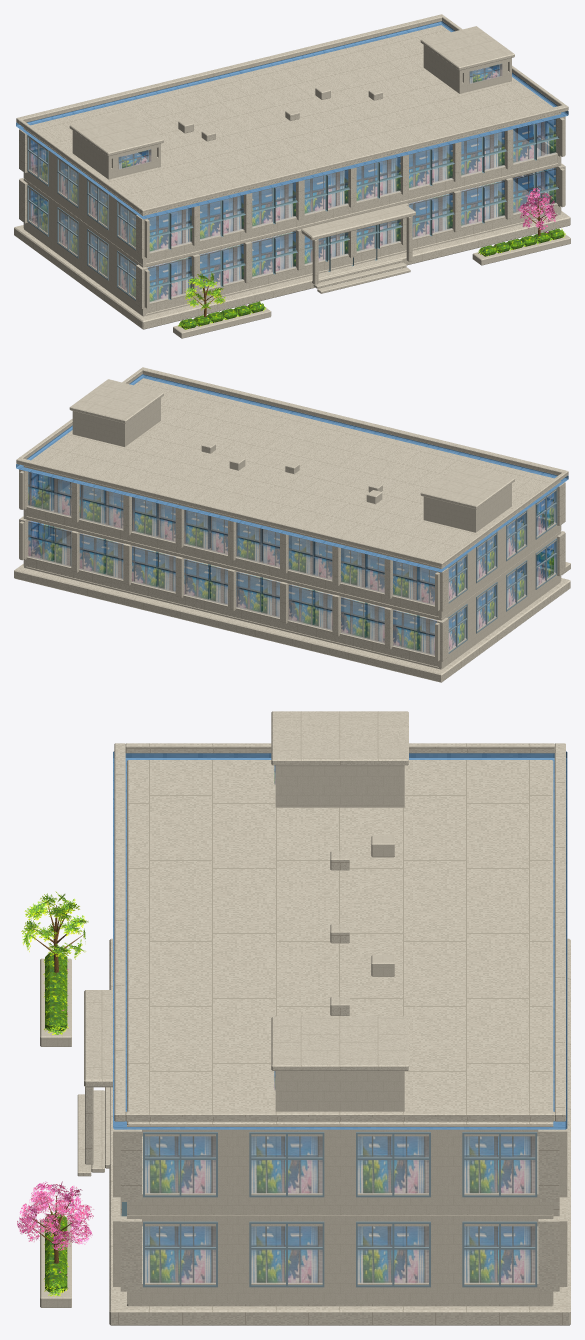
File: B06_low_building_v2.glb
3 renders of one model, top to bottom at view 1: azimuth 30°, elevation 25°; view 2: azimuth 150°, elevation 25°; view 3: azimuth 270°, elevation 25°, orthographic. The views are drawn at different scales.
Visible parts, largest first — view 1: GAME_V2_Pixel_limestone, GAME_V2_Glass_reflection, GAME_roof, GAME_蓝灰窗框, GAME_V3_Stair_metal, GAME_V2_Planter_stone, GAME_V2_Dense_hedge, GAME_V2_Leaf_cutout, GAME_V2_Blossom_cutout; view 2: GAME_V2_Pixel_limestone, GAME_V2_Glass_reflection, GAME_roof, GAME_蓝灰窗框, GAME_V3_Stair_metal, GAME_V2_Planter_stone; view 3: GAME_V2_Pixel_limestone, GAME_V2_Glass_reflection, GAME_V3_Stair_metal, GAME_roof, GAME_V2_Planter_stone, GAME_V2_Blossom_cutout, GAME_V2_Dense_hedge, GAME_V2_Leaf_cutout, GAME_V2_Bark.
Boxes of the visible parts, x1,y1,x2,y2 form: GAME_V2_Pixel_limestone: (14, 14, 570, 329); GAME_V2_Glass_reflection: (29, 64, 556, 302); GAME_roof: (16, 21, 568, 219); GAME_蓝灰窗框: (31, 124, 559, 299); GAME_V3_Stair_metal: (27, 121, 553, 300); GAME_V2_Planter_stone: (173, 86, 570, 338); GAME_V2_Dense_hedge: (179, 229, 564, 329); GAME_V2_Leaf_cutout: (178, 228, 565, 329); GAME_V2_Blossom_cutout: (194, 188, 557, 318); GAME_V2_Pixel_limestone: (14, 367, 570, 682); GAME_V2_Glass_reflection: (28, 472, 555, 655); GAME_roof: (16, 374, 568, 572); GAME_蓝灰窗框: (29, 477, 553, 649); GAME_V3_Stair_metal: (31, 474, 557, 653); GAME_V2_Planter_stone: (229, 456, 570, 574); GAME_V2_Pixel_limestone: (77, 711, 570, 1325); GAME_V2_Glass_reflection: (145, 765, 535, 1283); GAME_V3_Stair_metal: (143, 1132, 537, 1287); GAME_roof: (113, 751, 567, 1129); GAME_V2_Planter_stone: (40, 835, 394, 1307); GAME_V2_Blossom_cutout: (17, 969, 93, 1275); GAME_V2_Dense_hedge: (45, 952, 67, 1292); GAME_V2_Leaf_cutout: (21, 891, 88, 1296); GAME_V2_Bark: (27, 902, 83, 1263).
Bounding box in the file's own units: 20.5 × 6.46 × 12.94.
Materials: 10 (8 with a texture image).
